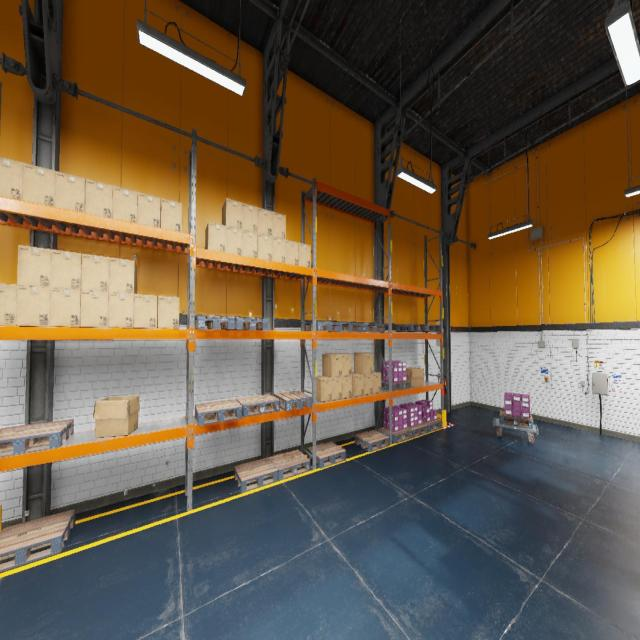box: (93, 396, 140, 438), (16, 285, 50, 327), (17, 245, 51, 287), (22, 163, 55, 206), (50, 249, 82, 290), (55, 170, 85, 212), (49, 288, 81, 327), (85, 178, 113, 218), (81, 254, 109, 292), (80, 290, 108, 327), (0, 156, 23, 200), (109, 258, 137, 294), (112, 185, 138, 223), (108, 292, 134, 328), (137, 192, 161, 228), (134, 294, 158, 328), (0, 283, 17, 326), (161, 198, 182, 232), (158, 296, 179, 328), (205, 222, 226, 252), (222, 198, 242, 229), (312, 375, 332, 402), (242, 203, 258, 233), (226, 227, 242, 256), (322, 354, 342, 377), (242, 230, 258, 258), (354, 372, 372, 395), (258, 207, 272, 236), (258, 233, 272, 261), (272, 212, 286, 240), (354, 353, 372, 374), (336, 353, 352, 376), (272, 237, 286, 263), (407, 368, 424, 387), (298, 242, 310, 268), (286, 239, 298, 265), (352, 372, 364, 397), (332, 377, 342, 400), (342, 376, 351, 398), (373, 371, 381, 393)
pallets: (0, 509, 75, 572), (0, 419, 74, 457), (234, 458, 278, 492), (269, 450, 310, 480), (195, 400, 242, 426), (307, 442, 346, 468), (236, 394, 279, 417), (355, 430, 390, 452), (274, 391, 312, 411), (499, 411, 533, 428), (194, 316, 234, 329), (379, 428, 412, 443), (235, 318, 268, 330), (305, 321, 340, 331), (406, 423, 428, 437), (333, 322, 362, 332), (381, 380, 410, 390), (422, 419, 442, 432), (357, 323, 384, 332), (396, 324, 426, 331), (414, 324, 440, 332)
